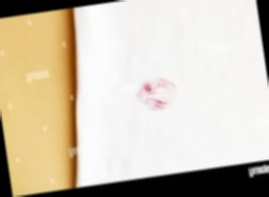lipstick: (137, 76, 180, 113)
